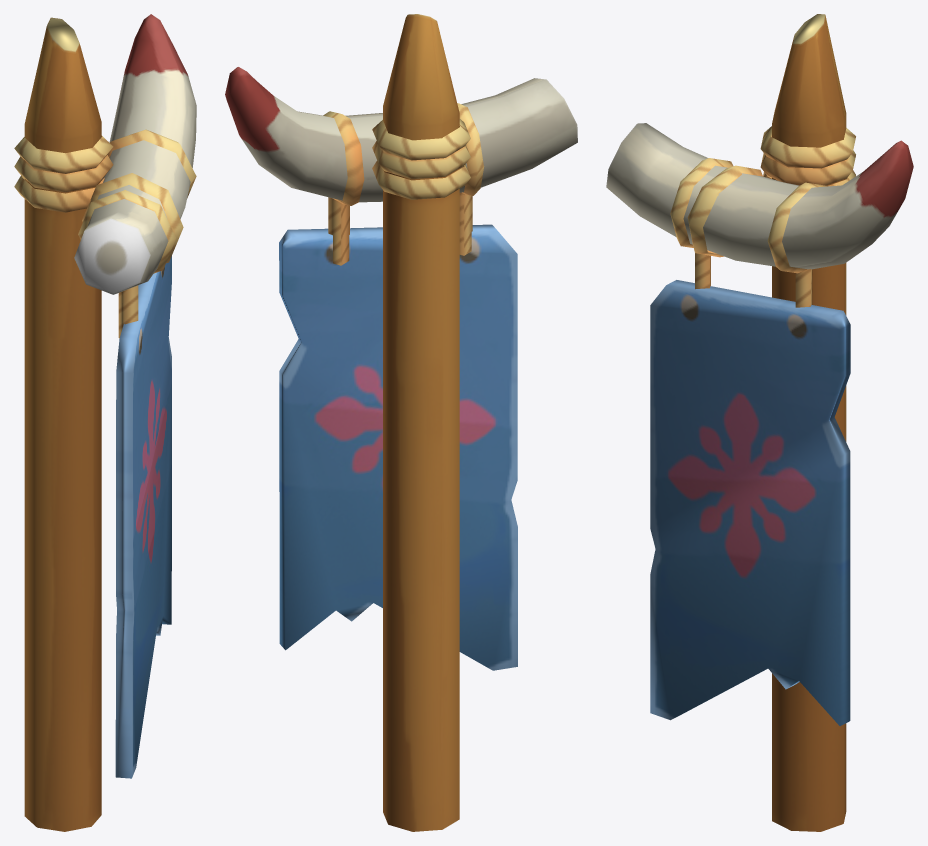
3 views of the same model, side by side, from view 1: azimuth 30°, elevation 25°; view 2: azimuth 150°, elevation 25°; view 3: azimuth 270°, elevation 25° (orthographic).
Parts seen in each view (by area): view 1: SM_s21b; view 2: SM_s21b; view 3: SM_s21b.
Boxes of the visible parts, x1,y1,x2,y2 form: SM_s21b: [14, 14, 196, 831]; SM_s21b: [225, 14, 577, 831]; SM_s21b: [606, 14, 913, 831].
Bounding box in the file's own units: 103 × 350 × 122.
